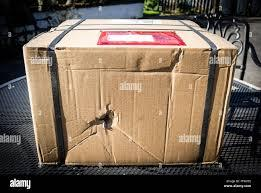damage_box: (21, 16, 238, 167)
